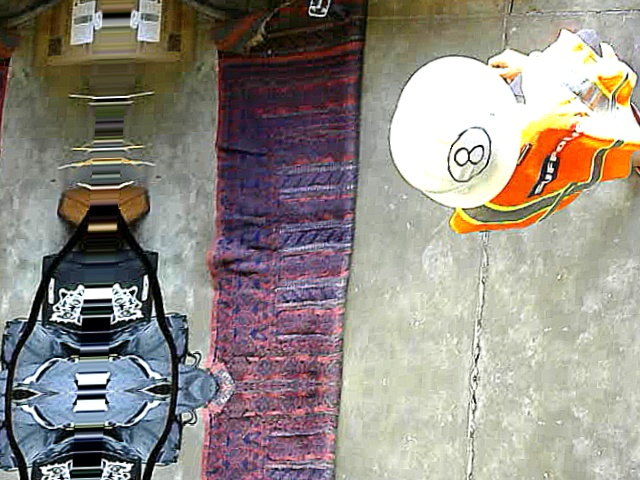eight: (445, 124, 493, 184)
